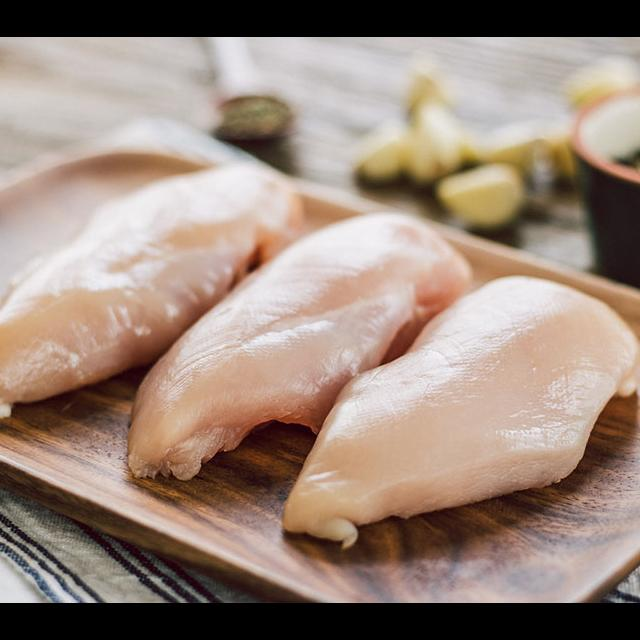chicken: (280, 273, 640, 545), (126, 209, 474, 480), (0, 160, 310, 417)
